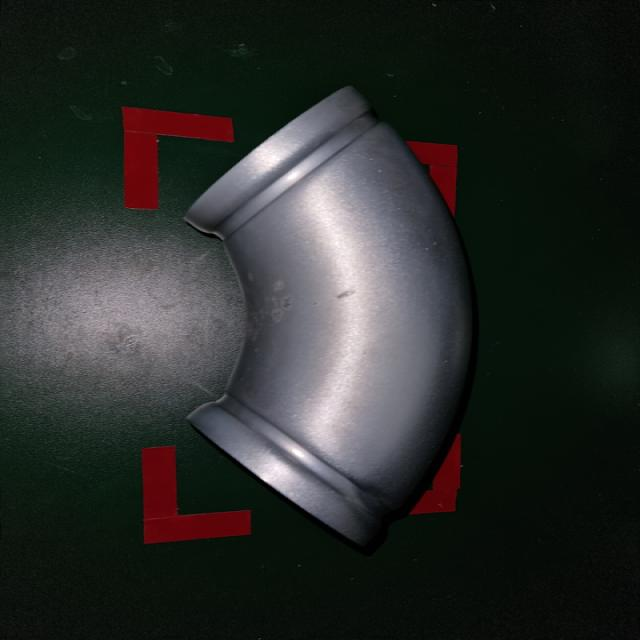Defect: (172, 79, 492, 549)
Hole: (232, 260, 366, 343)
